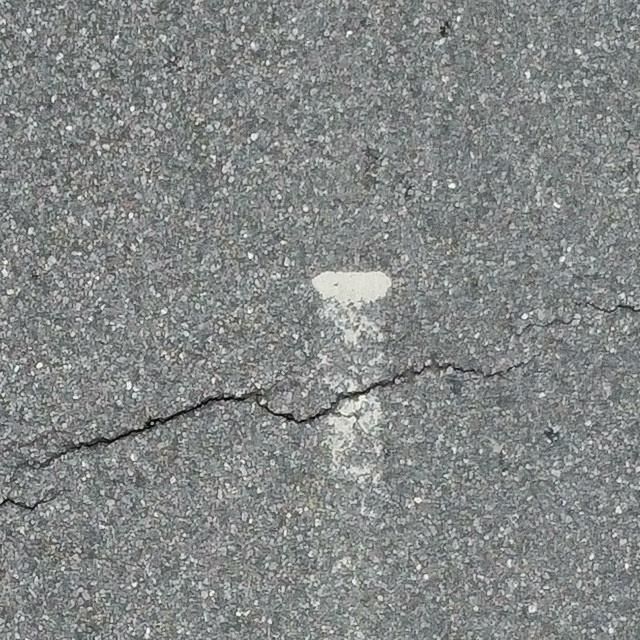TransverseCrack: (20, 352, 544, 467), (514, 298, 640, 339), (1, 485, 75, 514)
